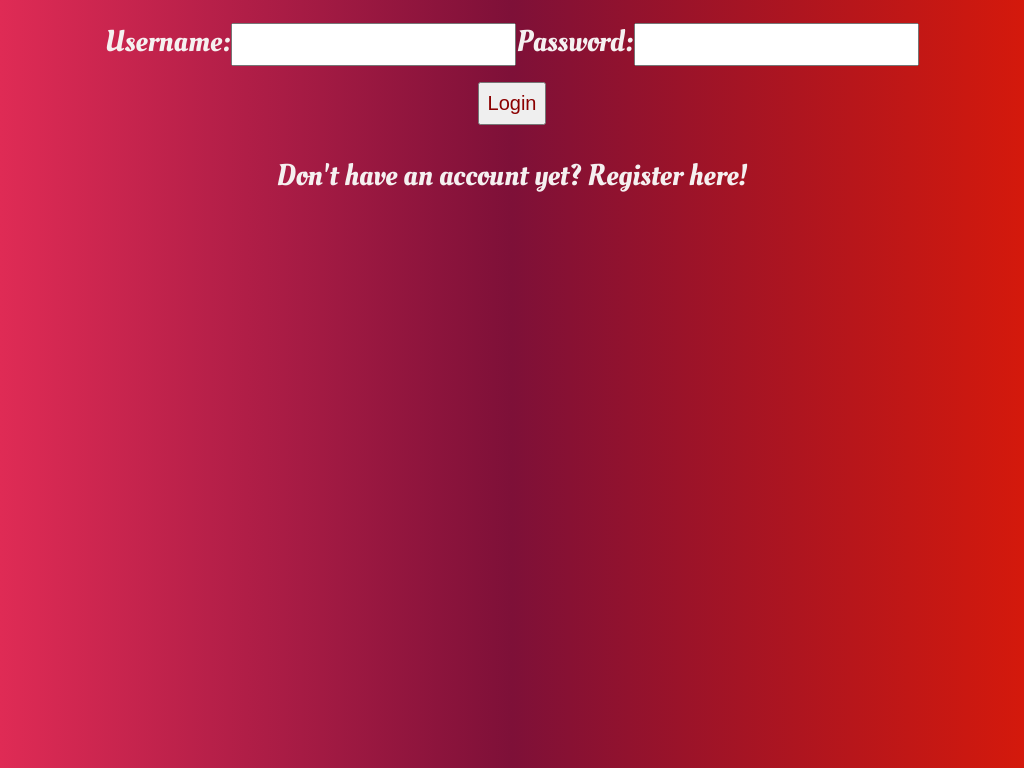
Test: Login Form › updates password state on user typing
Type "h" into the password field named "Password".
click(777, 45); type("h")  # box [634,23,919,66]
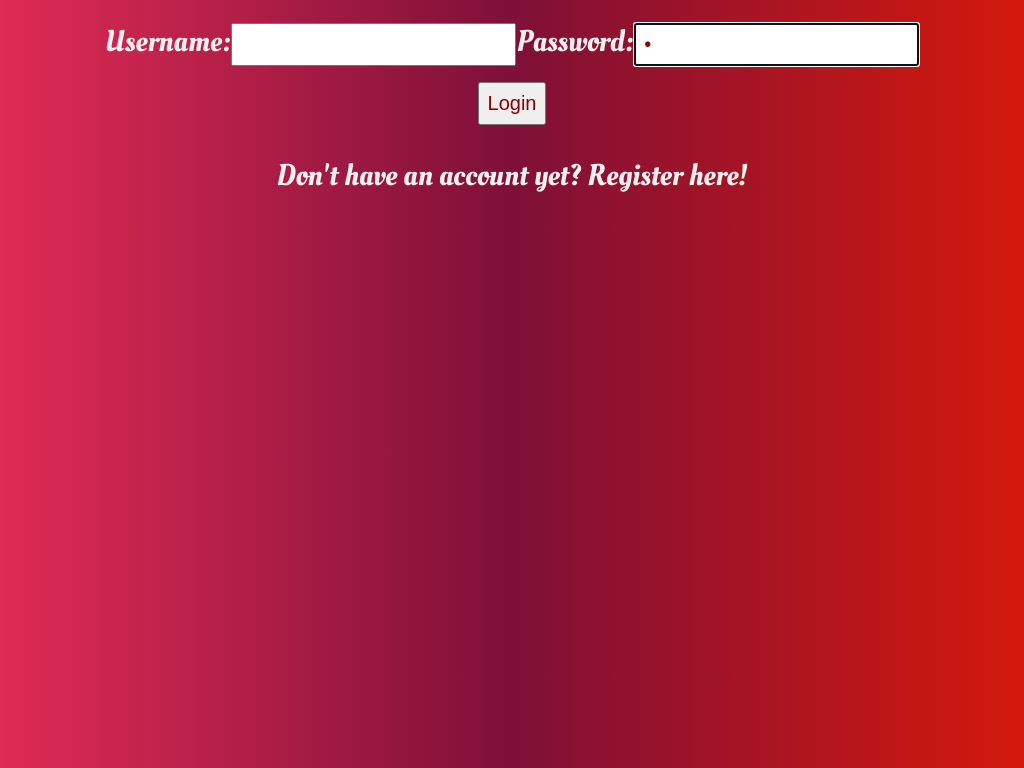
Type "e" into the password field named "Password".
click(777, 45); type("e")  # box [634,23,919,66]
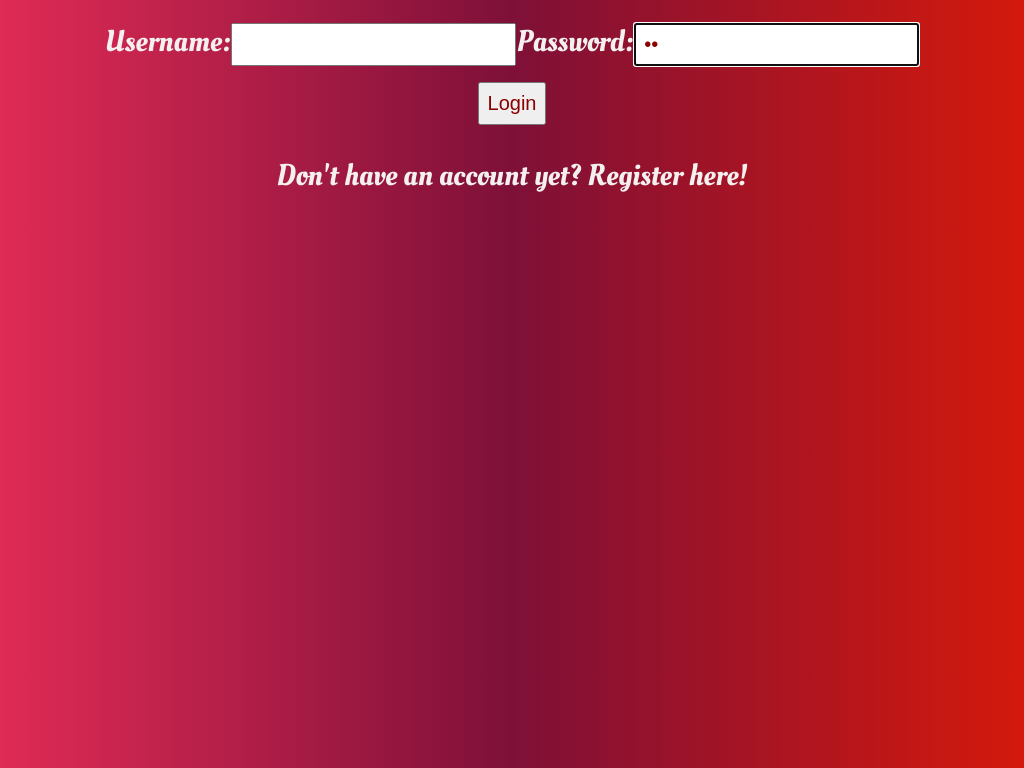
Result: the password field named "Password" holds "he"
Type "y" into the password field named "Password".
click(777, 45); type("y")  # box [634,23,919,66]
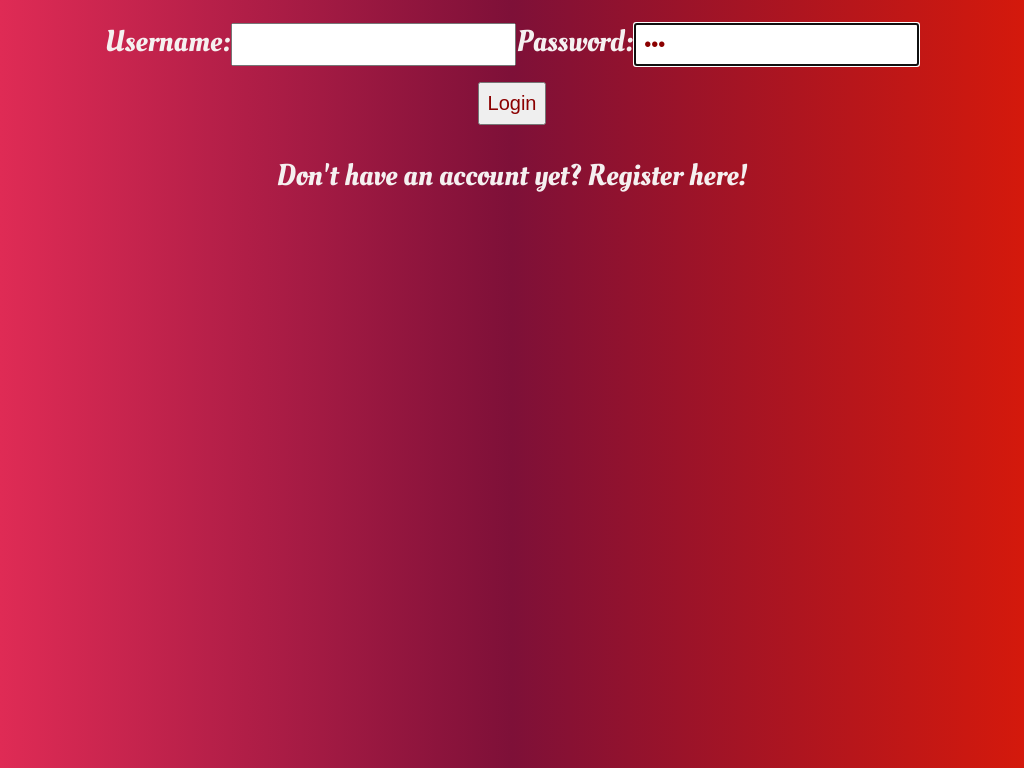
Result: the password field named "Password" holds "hey" at [634,23,919,66]
